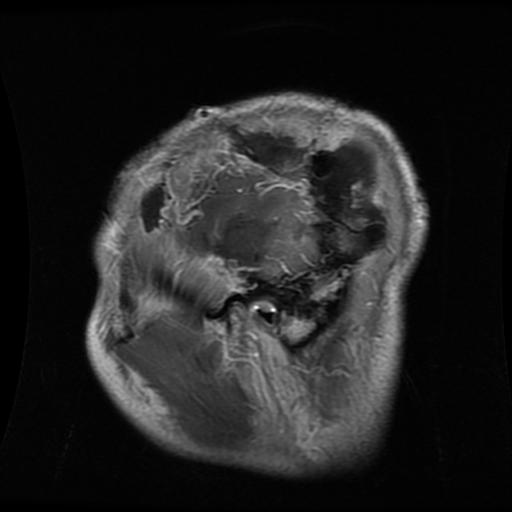Gliomia_tumour: (303, 144, 375, 255)
